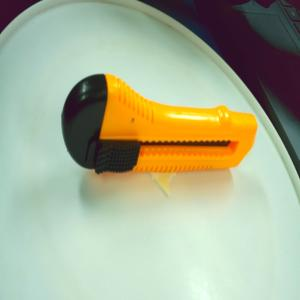estilete: (61, 71, 258, 177)
